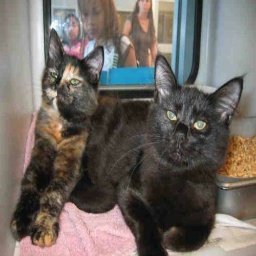cat: (4, 37, 245, 250)
